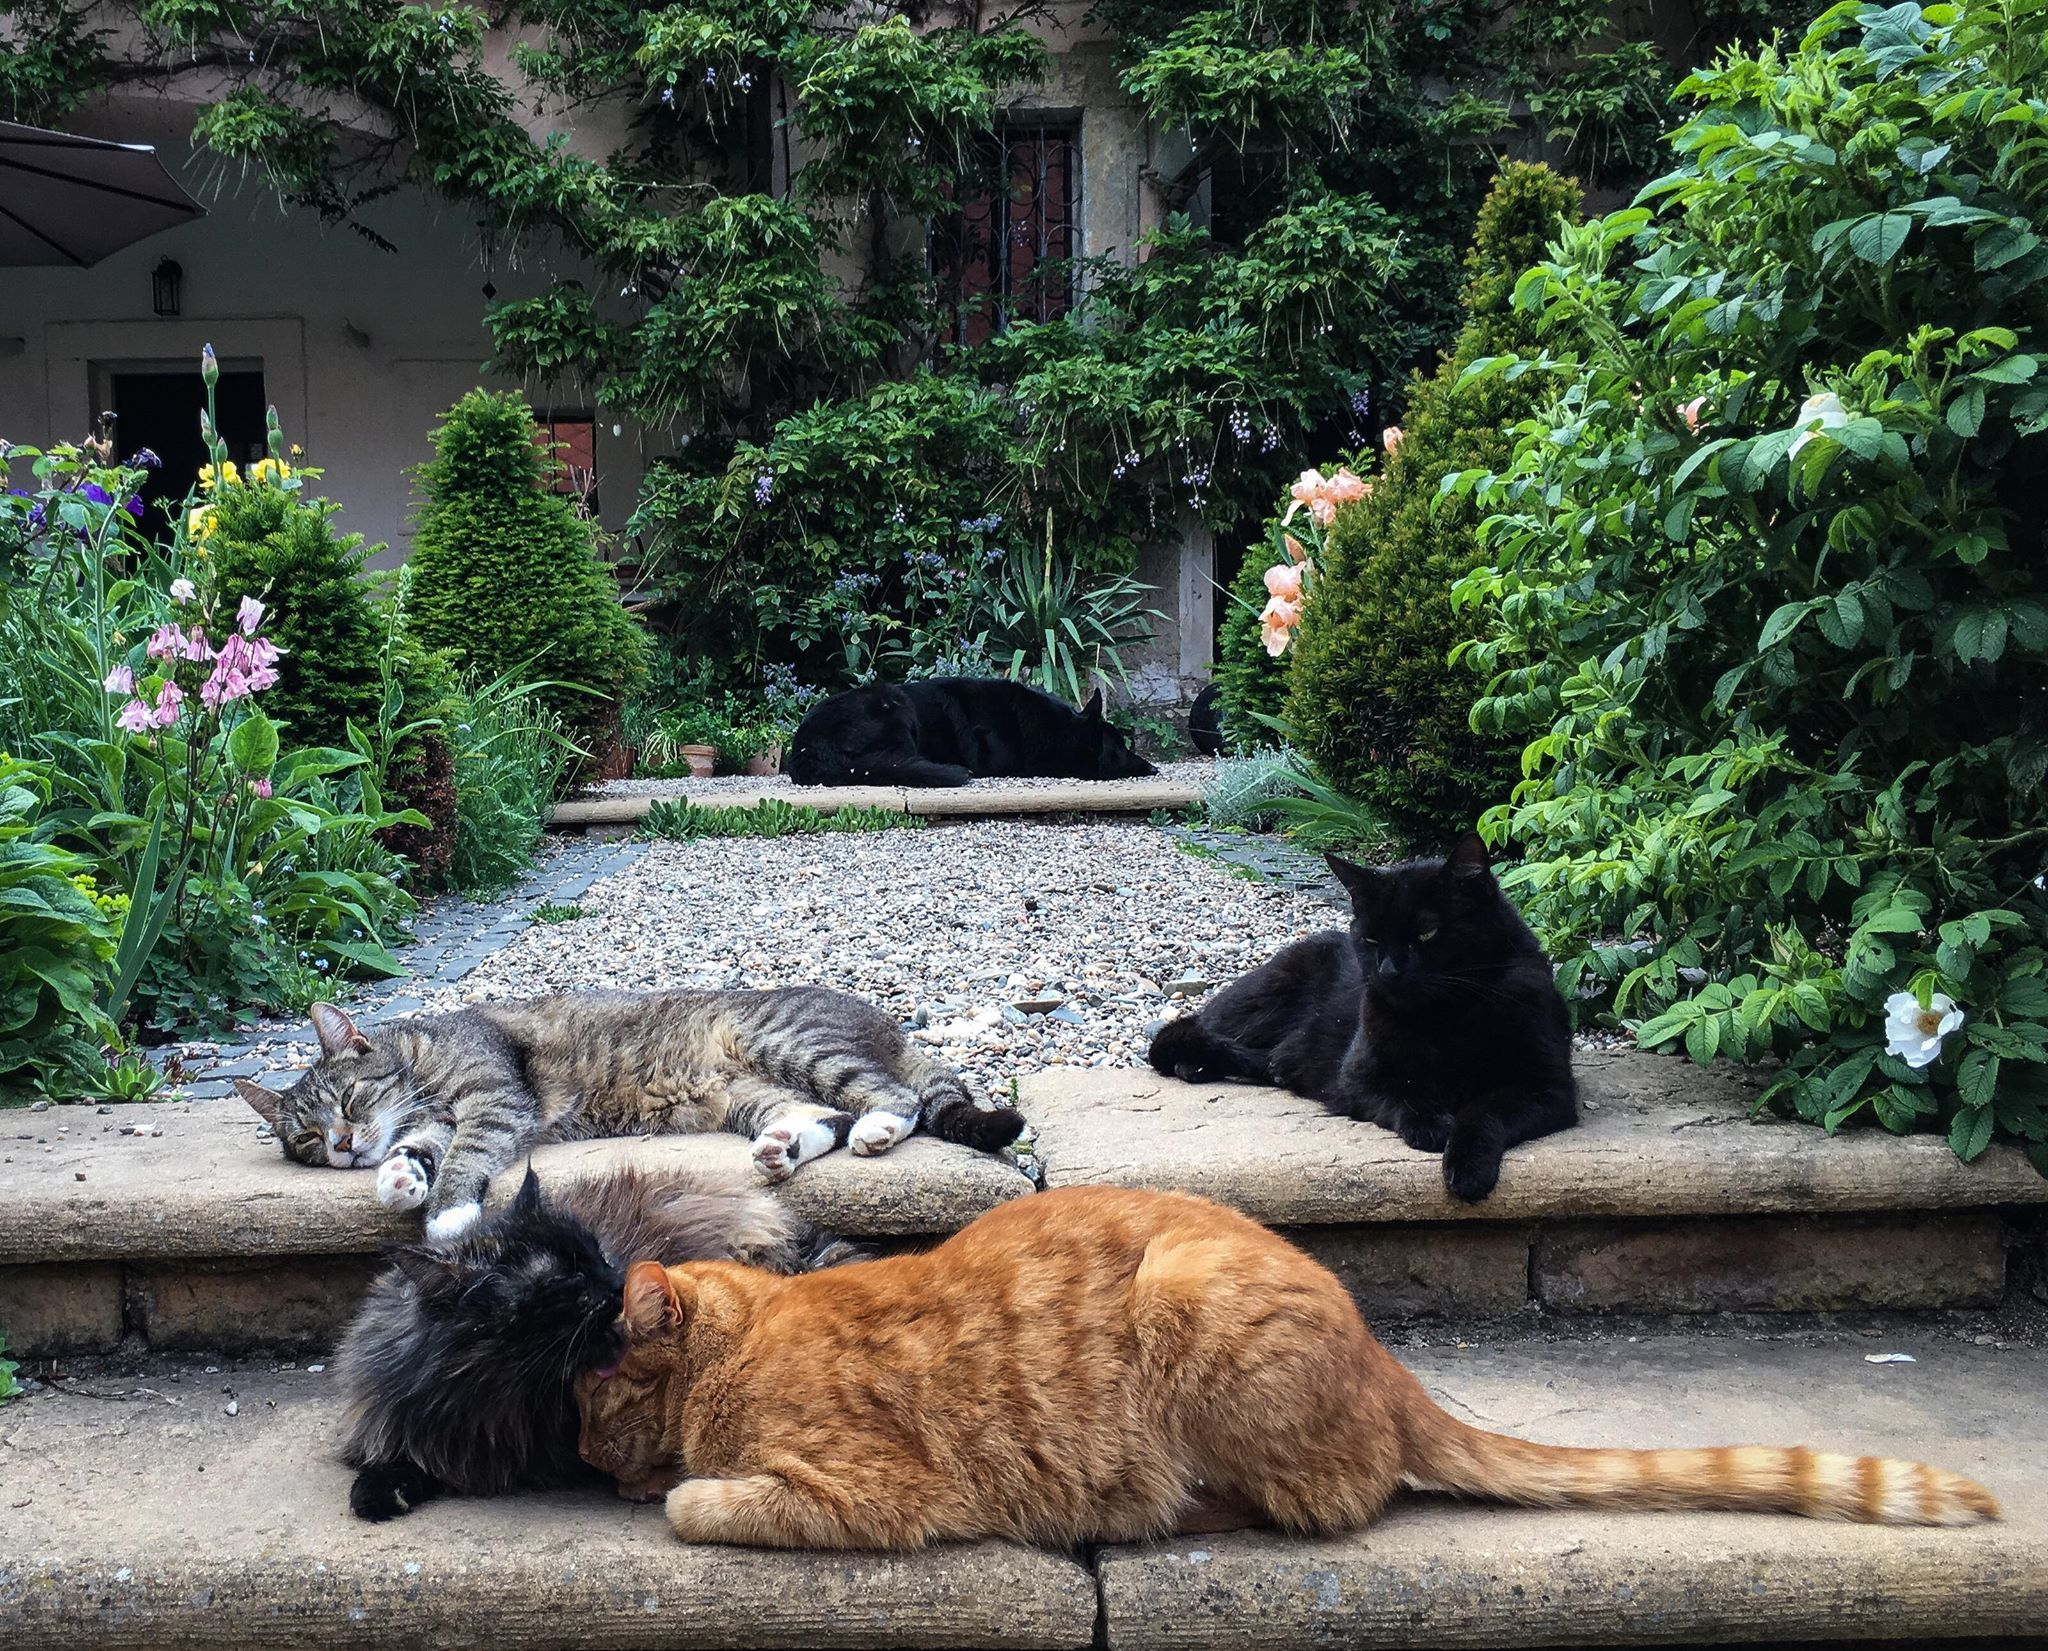cat: (615, 1193, 1992, 1563), (212, 974, 1051, 1186), (1160, 858, 1597, 1216), (349, 1174, 615, 1525)
